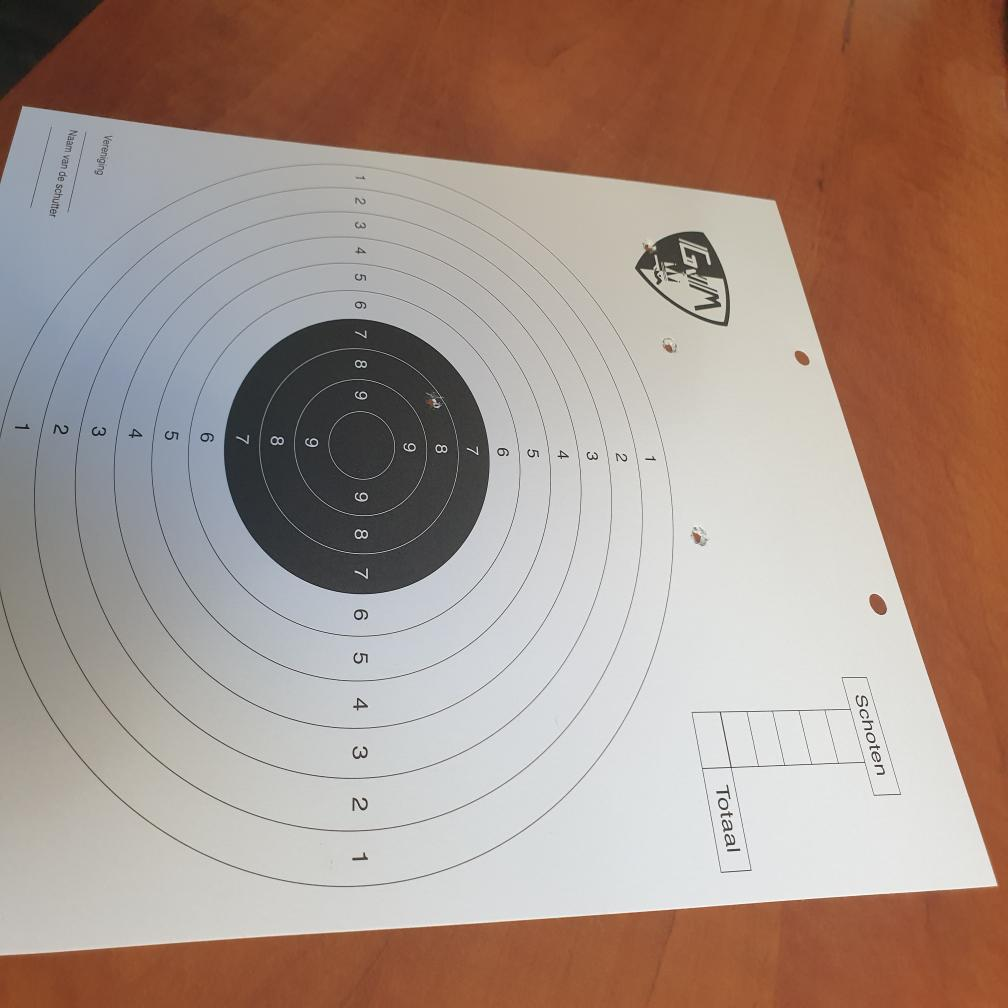0: (659, 332, 677, 357), (640, 236, 658, 256), (690, 524, 706, 546)
8: (424, 387, 445, 411)
Target: (0, 156, 678, 891)
black_contour: (224, 318, 491, 594)
